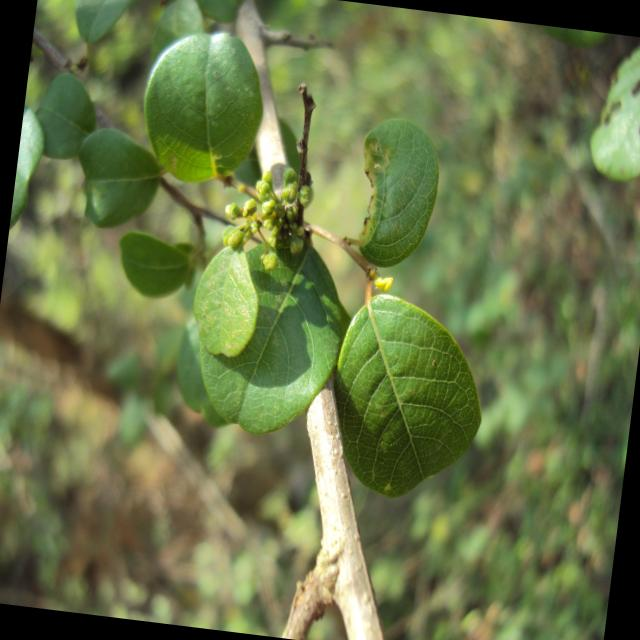Gugal: (10, 0, 525, 469)
